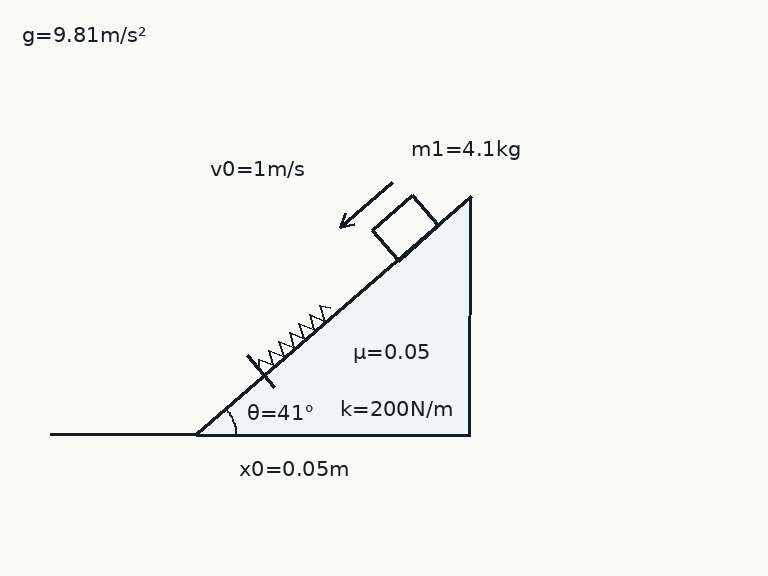block: (370, 193, 440, 262)
ramp: (194, 194, 473, 437)
spring: (257, 304, 332, 371)
